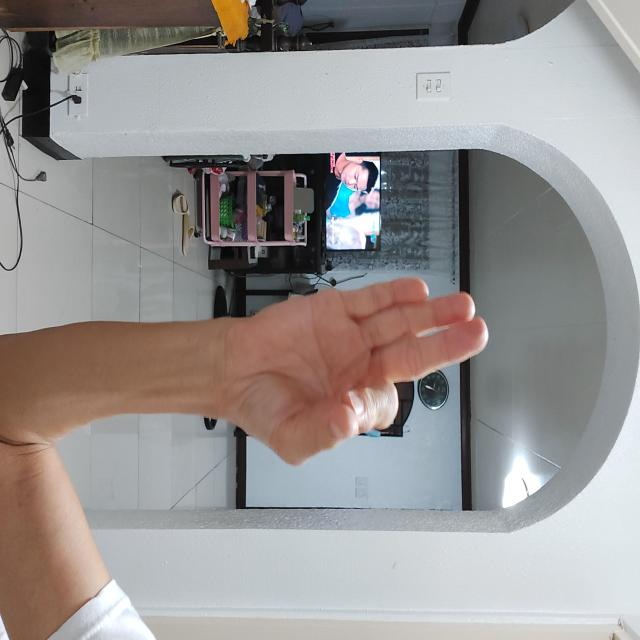F: (277, 150, 468, 417)
